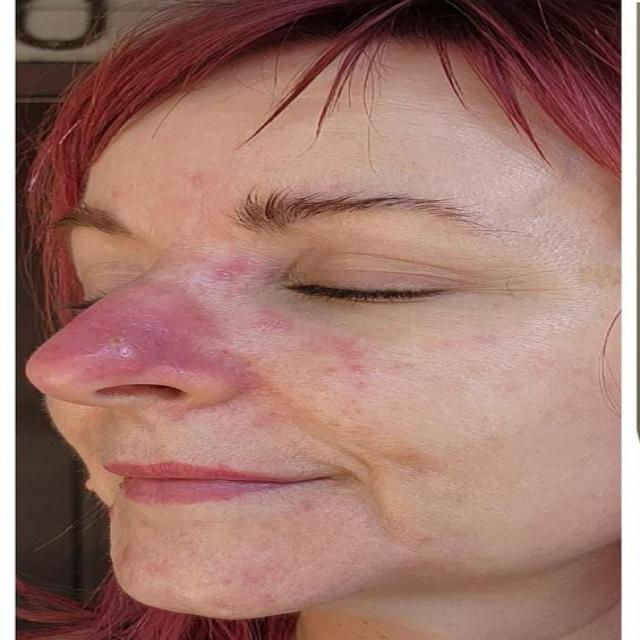Rosacea: (65, 301, 216, 388)
